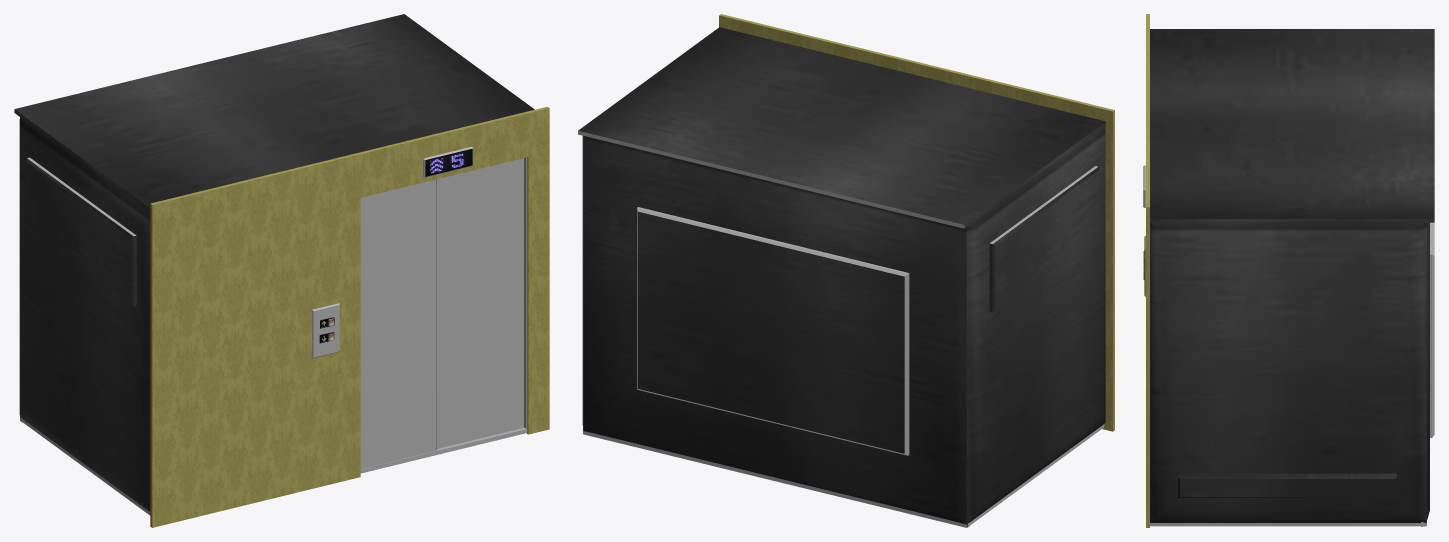
Rendered from lobby-elevator.glb.
The picture shows the model from 3 angles, left to right: view 1: azimuth 30°, elevation 25°; view 2: azimuth 150°, elevation 25°; view 3: azimuth 270°, elevation 25°; orthographic projection.
Parts seen in each view (by area): view 1: Cabin_2, Cabin_8, DoorR_0, DoorL_0, Cabin_0, Cabin_10, Cabin_12; view 2: Cabin_2, Cabin_8, Cabin_0; view 3: Cabin_2, Cabin_0, Cabin_8.
Part boxes in pixels (box(x1,y1,x2,y2)): Cabin_2: box(14, 14, 534, 511); Cabin_8: box(150, 106, 549, 527); DoorR_0: box(436, 158, 523, 448); DoorL_0: box(360, 179, 436, 468); Cabin_0: box(14, 109, 527, 515); Cabin_10: box(312, 303, 339, 358); Cabin_12: box(425, 148, 472, 176); Cabin_2: box(578, 27, 1105, 527); Cabin_8: box(719, 14, 1114, 431); Cabin_0: box(578, 130, 1104, 527); Cabin_2: box(1150, 29, 1434, 522); Cabin_0: box(1150, 222, 1434, 526); Cabin_8: box(1146, 14, 1149, 527).
Size of the model in its own units: 4.4 by 3.29 by 2.7.
Materials: 9 (7 with a texture image).
